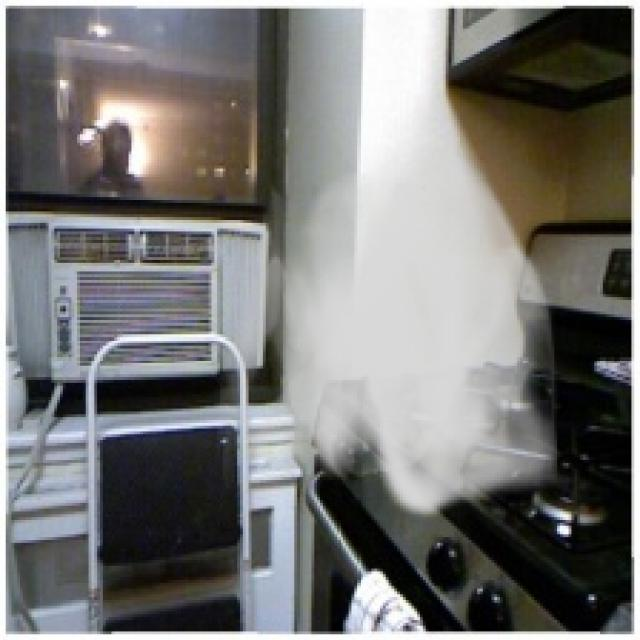smoke: (214, 140, 569, 520)
